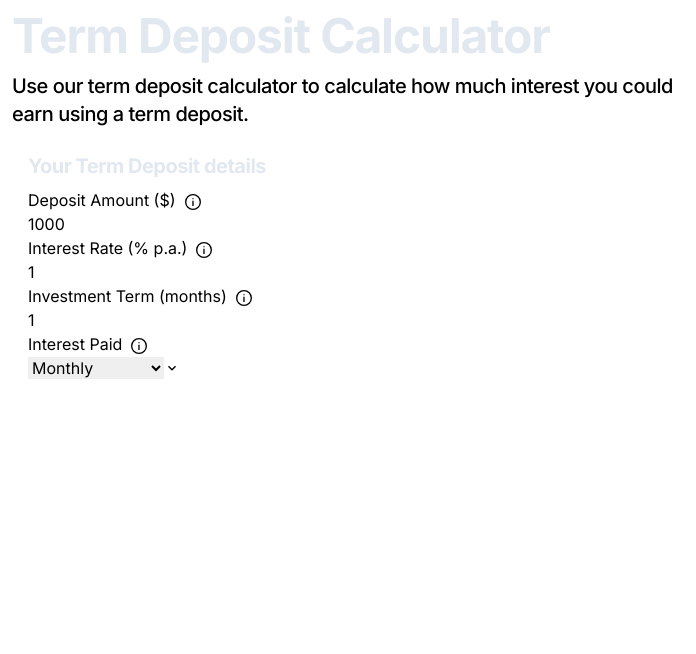
Test: Term Deposit Calculator Component › should display an error message when Deposit Amount is blank
Clear the number field with test id "depositAmountInput" at (354, 224), box [28,212,679,236]
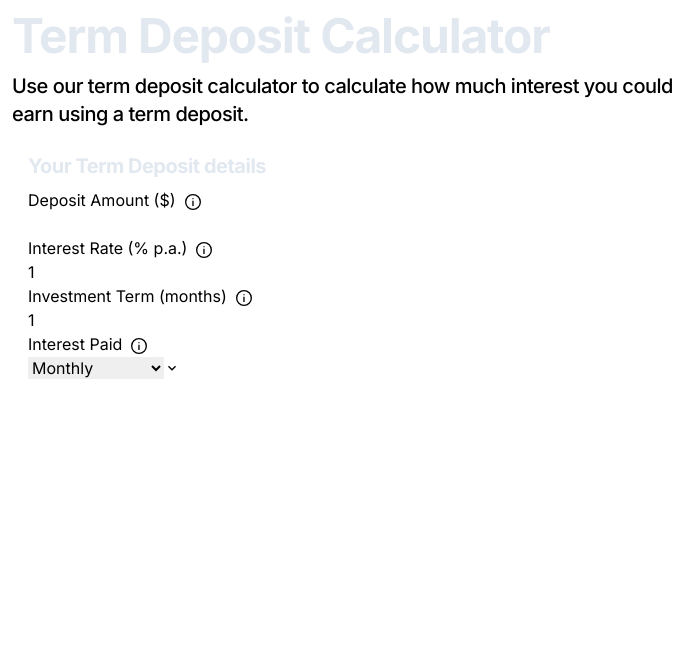
Replace the text in the number field with test id "interestRateInput" with "1.1" at (354, 272), box [28,260,679,284]
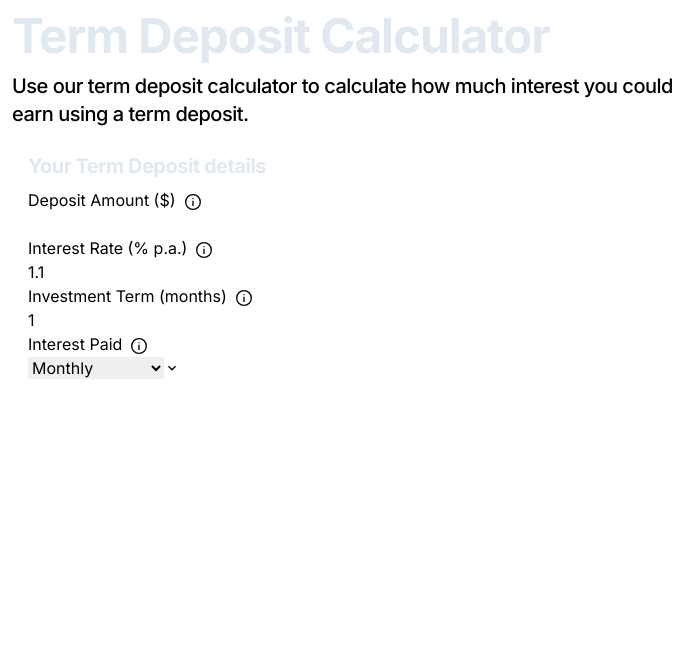
Replace the text in the number field with test id "investmentTermInput" with "36" at (354, 320), box [28,308,679,332]
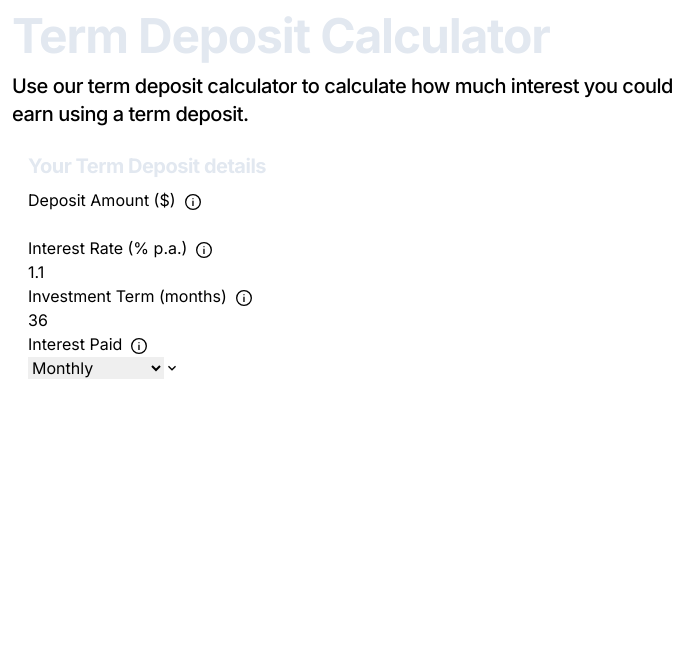
Select "At Maturity" in the dropdown with test id "interestPaidFrequencyInput" at (96, 368), box [28,357,164,379]
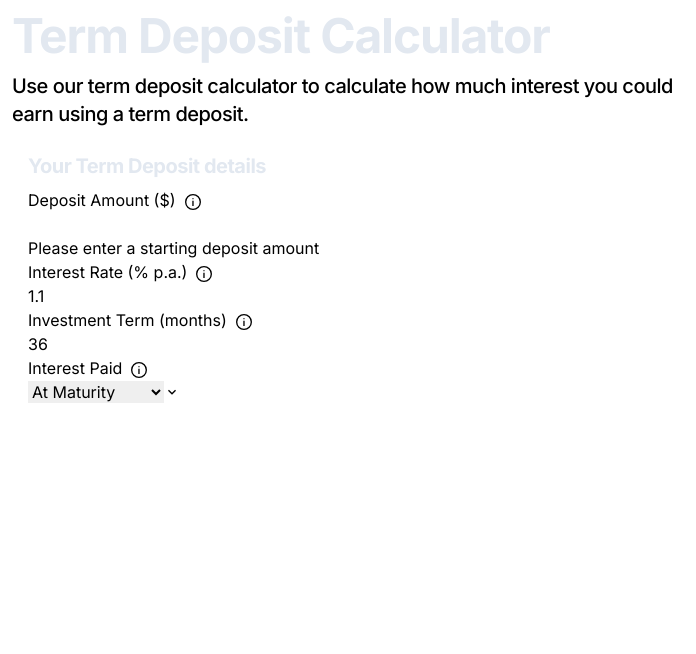
Now the number of messages is 1, box [28,238,319,258]
